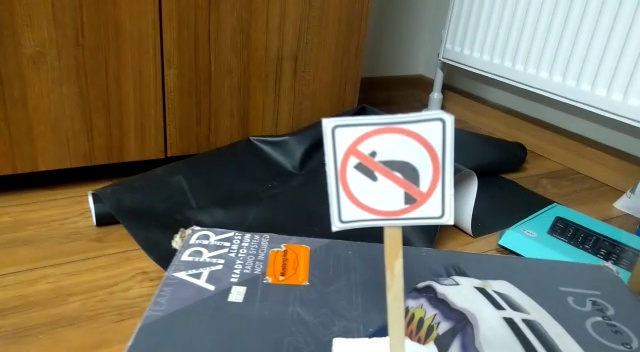sola_donulmez: (335, 120, 443, 224)
